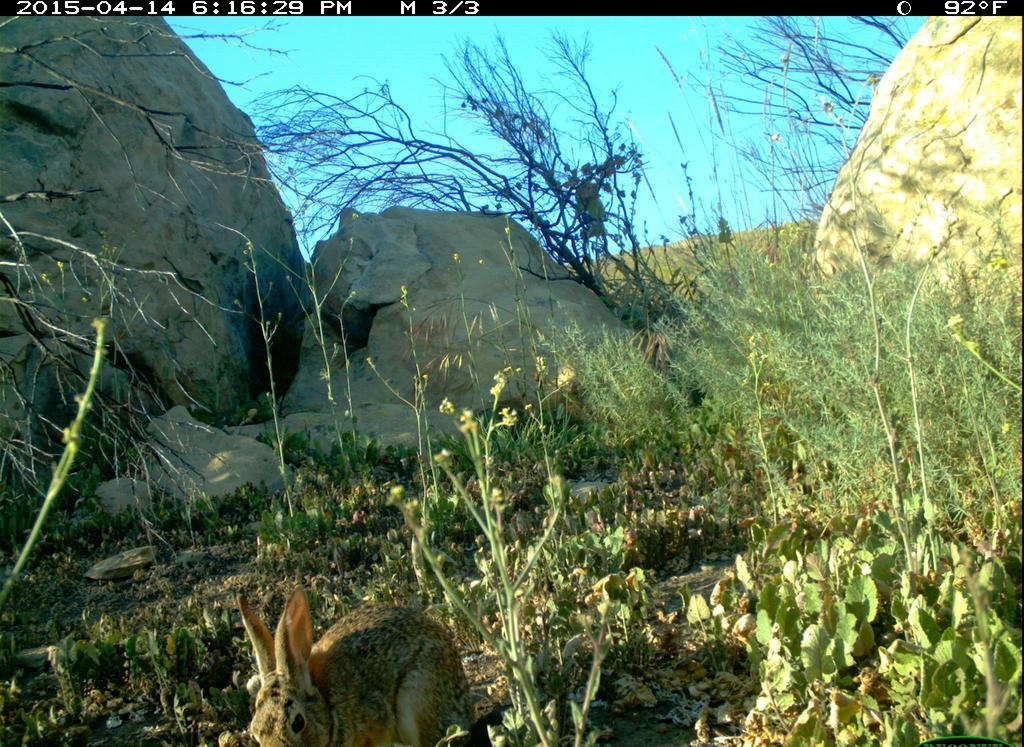rabbit: (212, 559, 491, 744)
